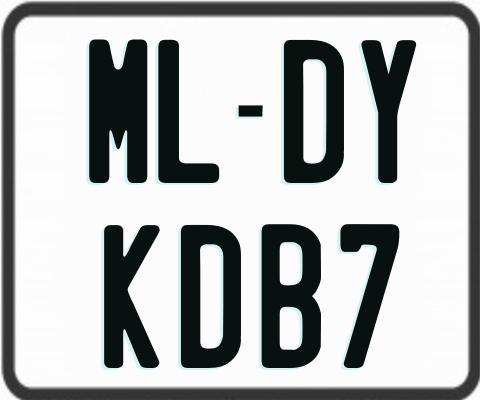7: (337, 224, 397, 374)
B: (262, 221, 327, 367)
D: (281, 40, 347, 185), (181, 225, 247, 370)
K: (104, 225, 160, 373)
L: (156, 38, 222, 181)
M: (89, 39, 147, 186)
Y: (360, 37, 419, 182)
